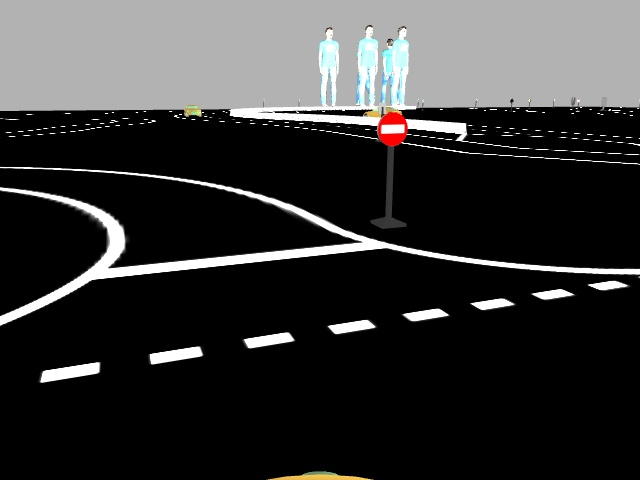NoEntry: (373, 112, 408, 146)
